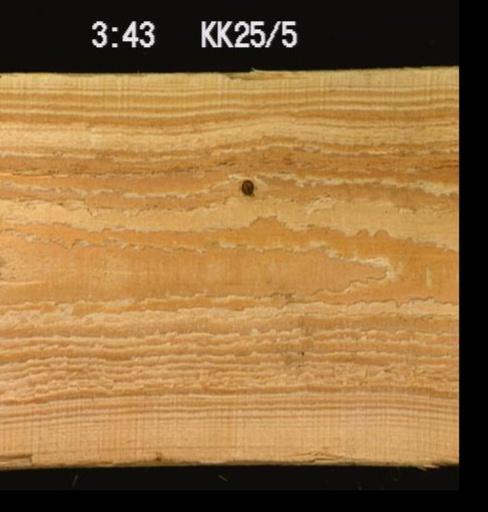dry_knot: (238, 177, 254, 195)
wave: (101, 454, 457, 467), (214, 70, 307, 78)
